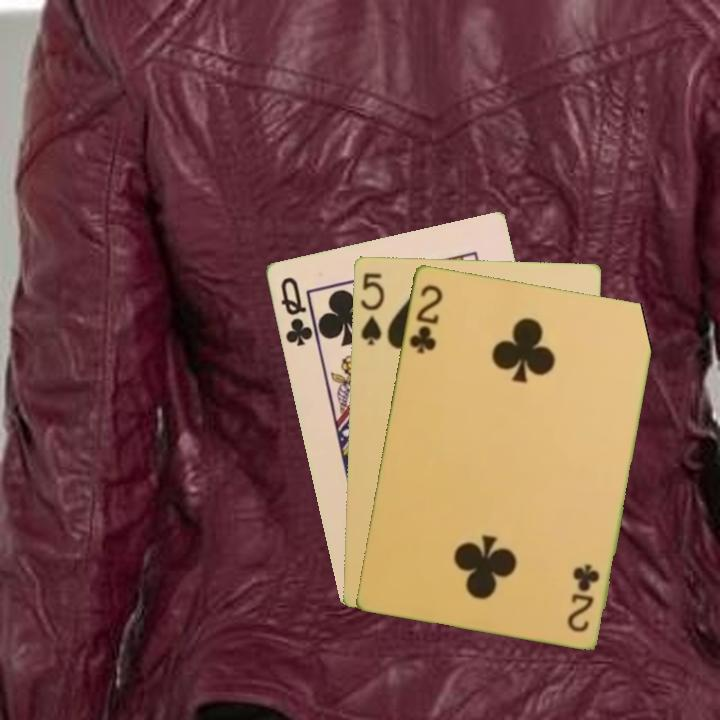2c: (405, 280, 445, 356), (563, 560, 603, 635)
5s: (357, 268, 387, 348)
Qc: (276, 273, 315, 349)
